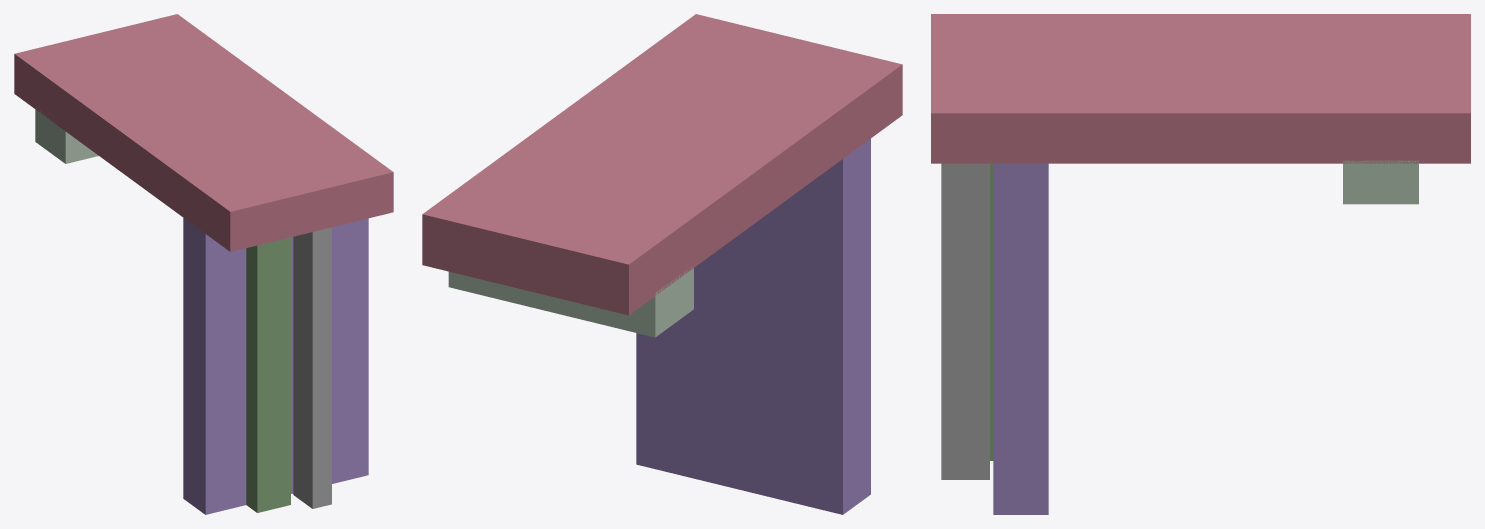
The picture shows the model from 3 angles, left to right: view 1: azimuth 30°, elevation 25°; view 2: azimuth 150°, elevation 25°; view 3: azimuth 270°, elevation 25°; orthographic projection. The views are drawn at different scales.
Visible parts, largest first — view 1: world; view 2: world; view 3: world.
Boxes of the visible parts, left/top/right/bottom form: world: left=14, top=14, right=393, bottom=514; world: left=422, top=14, right=902, bottom=514; world: left=931, top=14, right=1470, bottom=514.
Size of the model in its own units: 3.4 by 6.4 by 7.8.
